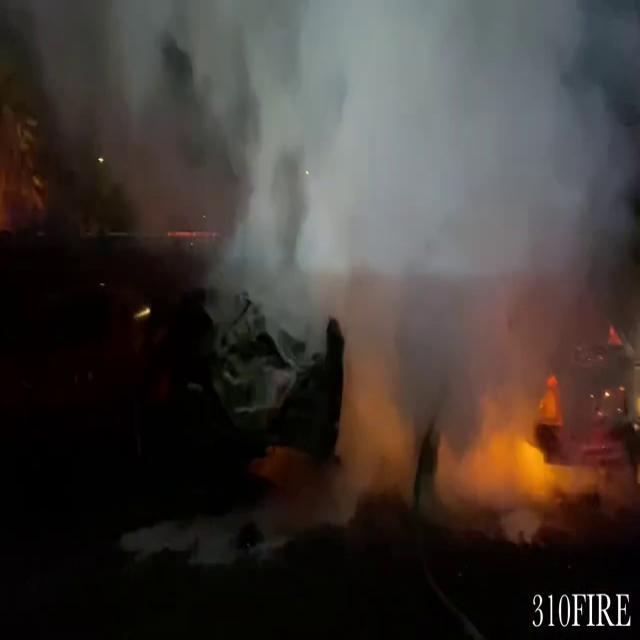Smoke: (4, 0, 640, 307), (288, 0, 627, 522)
